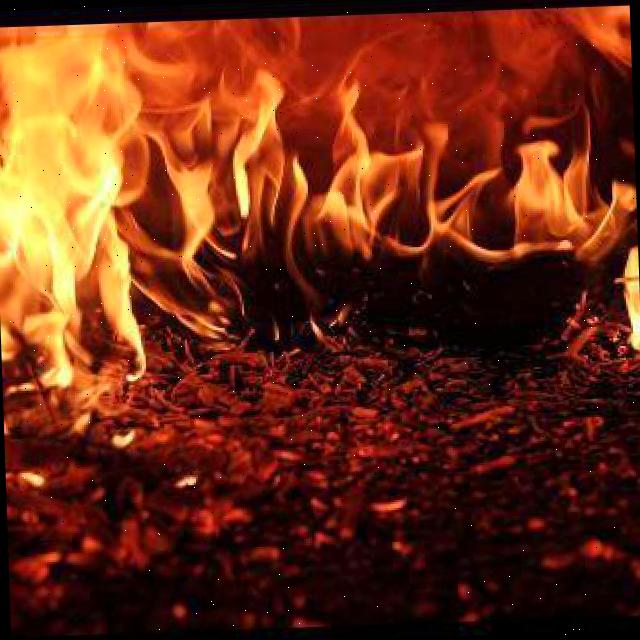fire: (0, 3, 640, 399)
